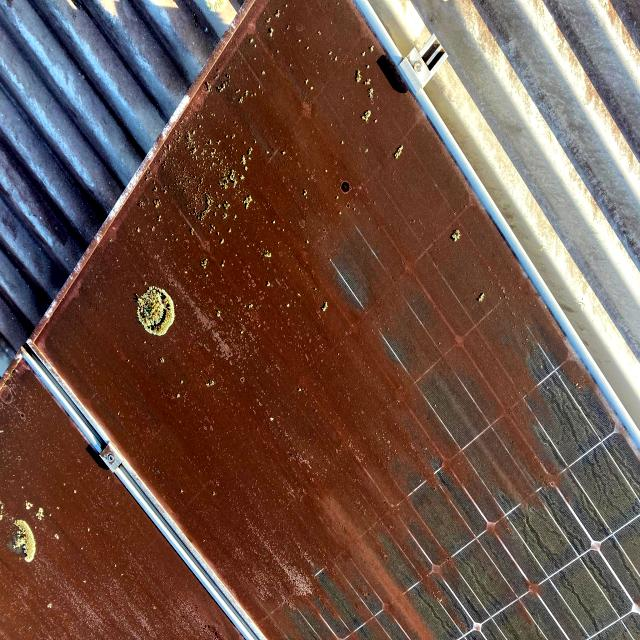dust: (186, 231, 341, 449), (354, 126, 430, 422), (436, 272, 532, 504), (0, 376, 95, 604), (244, 489, 414, 596), (252, 11, 357, 180), (112, 222, 178, 440), (113, 472, 230, 570), (181, 93, 246, 260), (74, 576, 221, 640), (70, 276, 102, 372)
